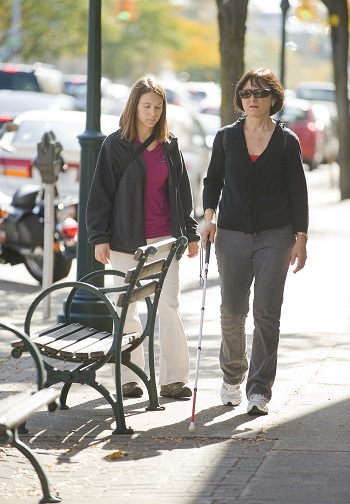Person: (84, 75, 201, 402), (201, 67, 310, 415)
